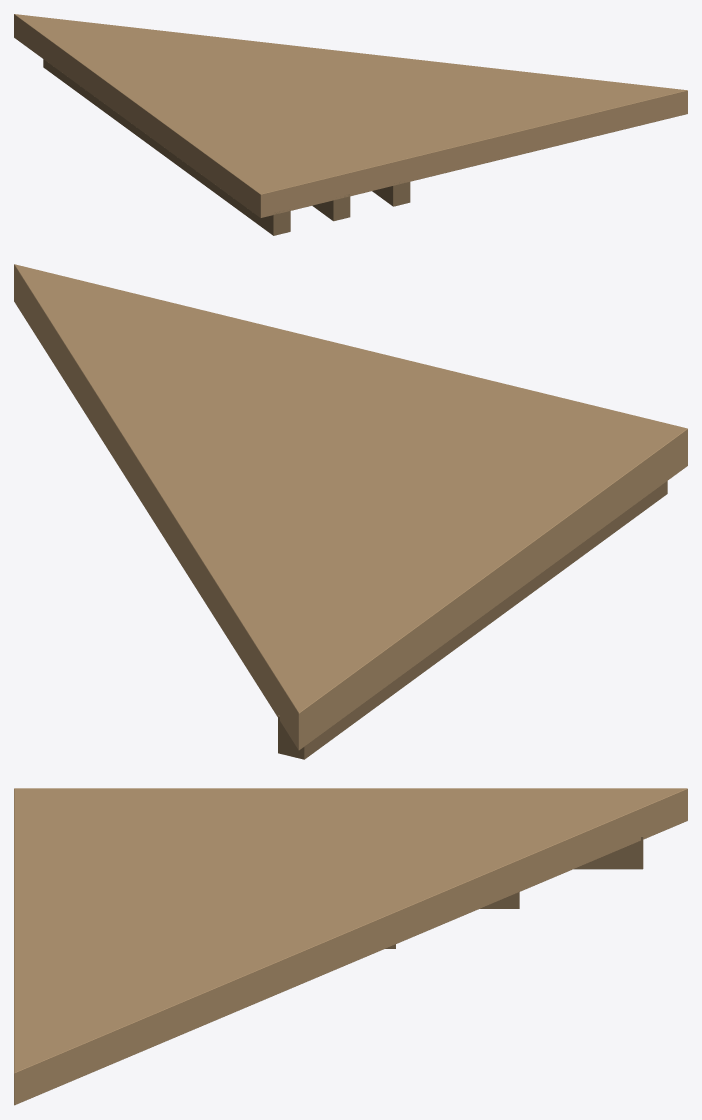
The model's file is BD_floor_tri.fbx.
3 renders of one model, top to bottom at view 1: azimuth 30°, elevation 25°; view 2: azimuth 150°, elevation 25°; view 3: azimuth 270°, elevation 25°, orthographic. The views are drawn at different scales.
Parts seen in each view (by area): view 1: BD_floor_tri.001; view 2: BD_floor_tri.001; view 3: BD_floor_tri.001.
Part boxes in pixels (box(x1,y1,x2,y2)): BD_floor_tri.001: box(14, 14, 687, 235); BD_floor_tri.001: box(14, 264, 687, 759); BD_floor_tri.001: box(14, 788, 687, 1105).
Bounding box in the file's own units: 3 × 0.3 × 3.
